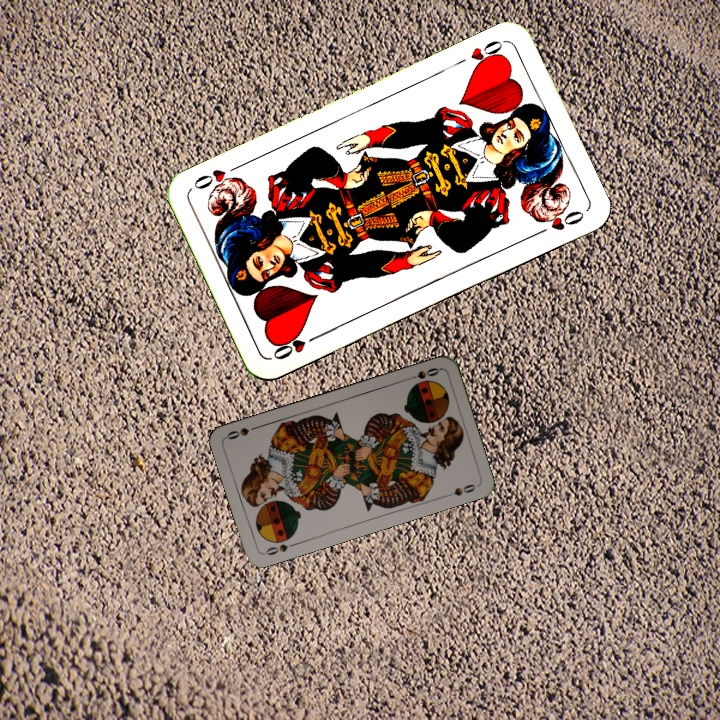HO: (268, 329, 324, 363), (466, 36, 507, 73)
SO: (402, 364, 442, 383), (260, 539, 300, 558)
